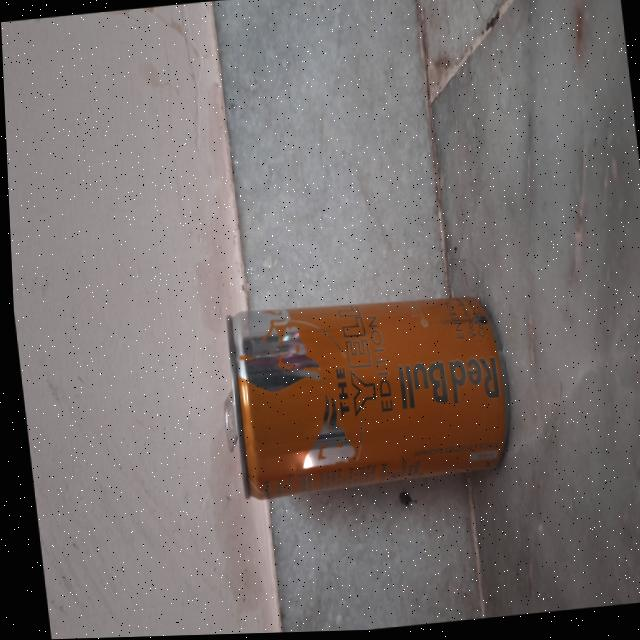Redbull Summer Edition: (186, 272, 524, 526)
